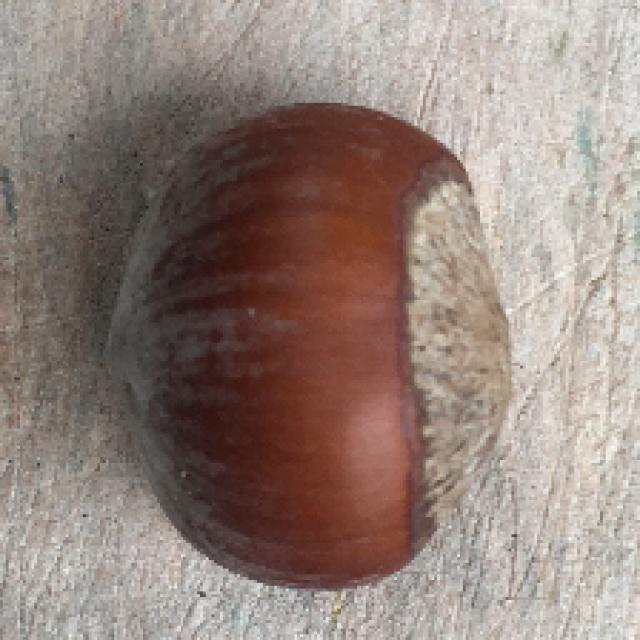qualityHazelnut: (109, 101, 523, 594)
